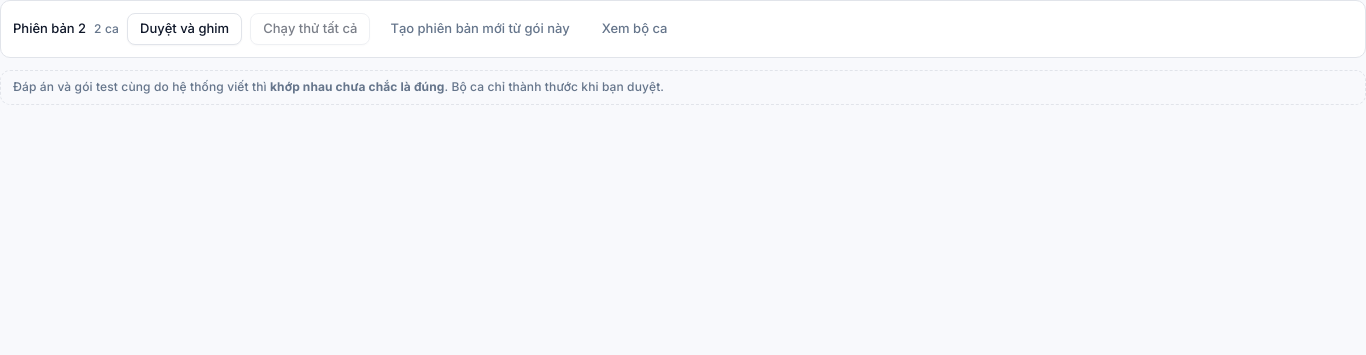
Test: TestBundleList — chạy thử (G2b-R) › đang chạy: mọi nút chạy khoá (một lượt tại một thời điểm); đúng nút đang chạy đổi chữ
Click the button "Xem bộ ca".
click(635, 29)  # box [590,13,680,45]
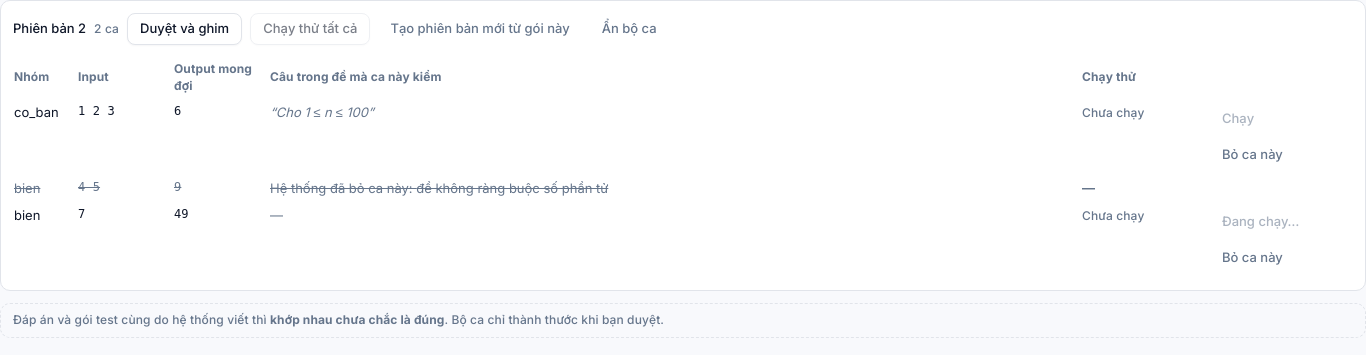
Expected: the button with aria-label "Chạy thử ca ca1" is disabled, [1210,103,1266,135]
Expected: the button with aria-label "Chạy thử ca ca3" reads "Đang chạy…", [1210,206,1312,238]
Expected: the button with aria-label "Chạy thử ca ca1" reads "Chạy", [1210,103,1266,135]
